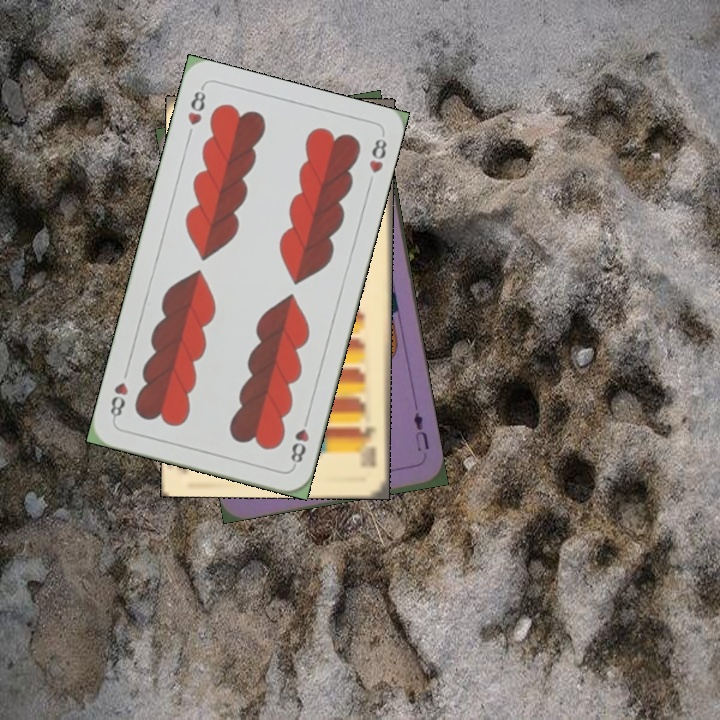E10: (354, 423, 379, 470)
EU: (409, 408, 432, 454)
H8: (286, 411, 312, 470), (183, 83, 209, 128)
